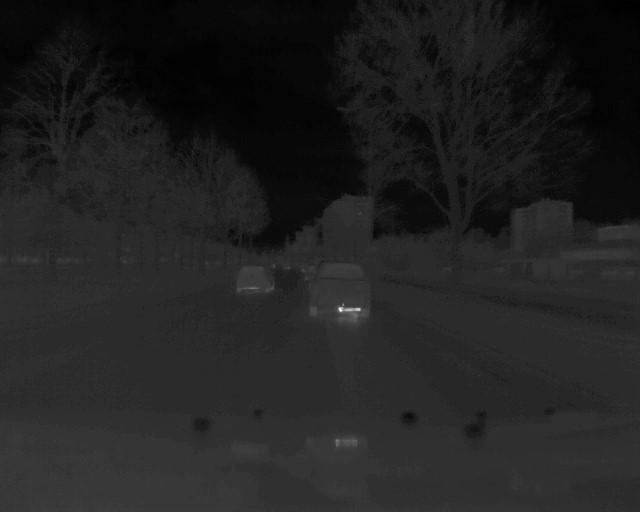car: (306, 258, 371, 318), (234, 263, 275, 295)
